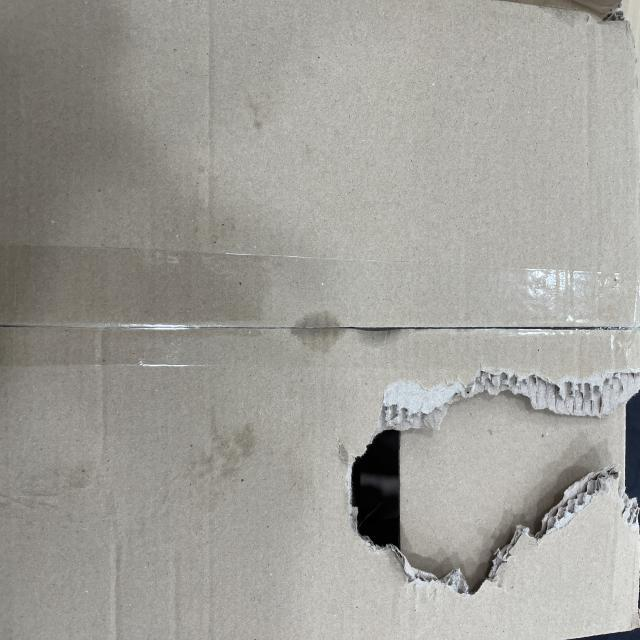hole: (348, 409, 411, 563)
